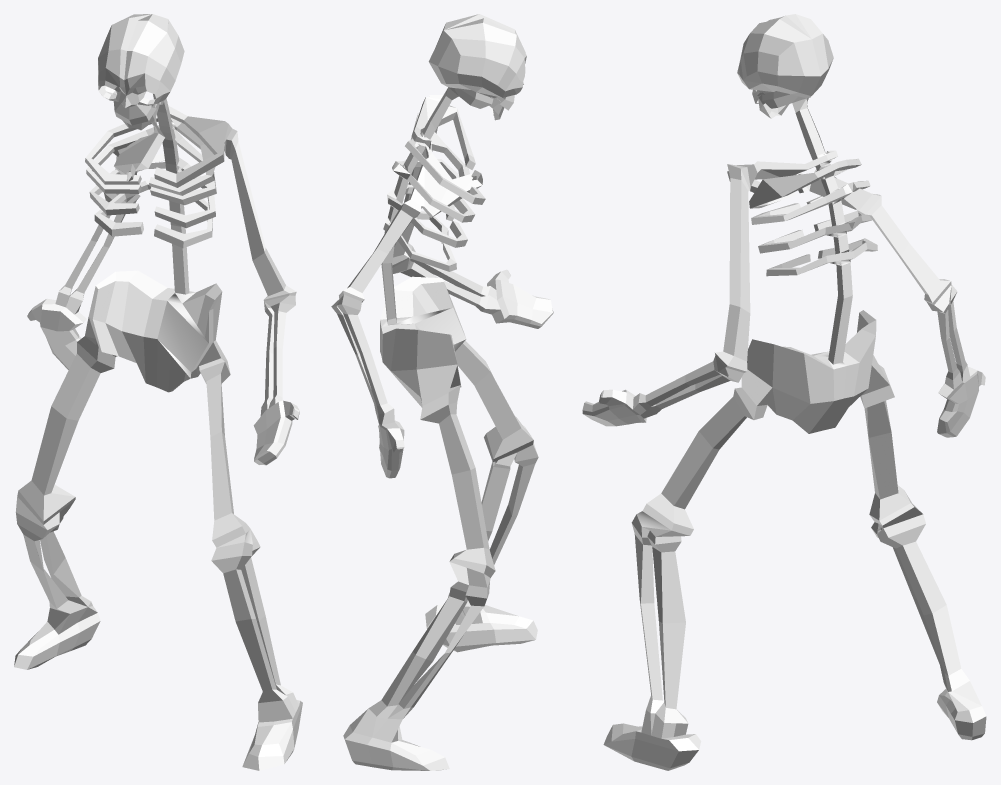
Rendered from SkeletonIdle(91).obj.
3 views of the same model, side by side, from view 1: azimuth 30°, elevation 25°; view 2: azimuth 150°, elevation 25°; view 3: azimuth 270°, elevation 25° (orthographic). The views are drawn at different scales.
Parts seen in each view (by area): view 1: Object002; view 2: Object002; view 3: Object002.
Boxes of the visible parts, left/top/right/bottom form: Object002: left=14, top=14, right=302, bottom=770; Object002: left=331, top=14, right=553, bottom=770; Object002: left=582, top=14, right=986, bottom=770.
Bounding box in the file's own units: 327 × 1131 × 585.
